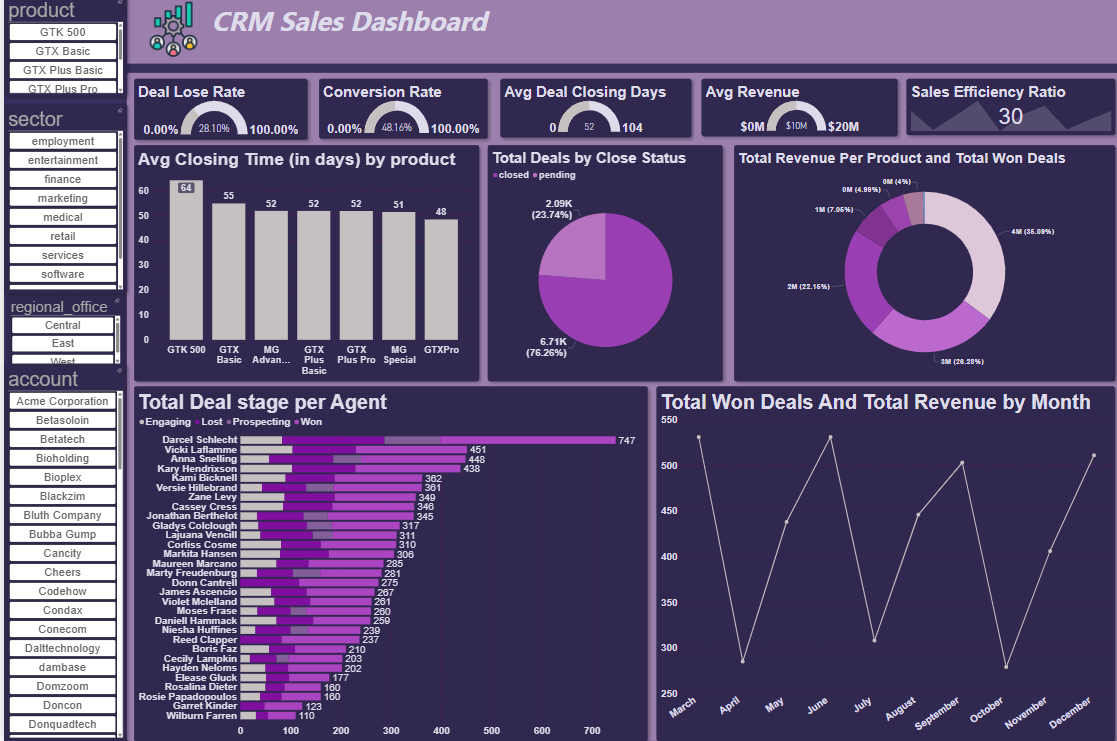

The dashboard page shown, as its layout file describes it:
{"tool":"powerbi","page":{"name":"Overview","canvas":[3000,2000],"ordinal":0},"visuals":[{"type":"shape","box":[328.4,207.8,2674.3,1792.9],"z":0},{"type":"textbox","box":[328.8,0,2672.3,184],"z":1000},{"type":"image","box":[232.2,0,446.4,184],"z":2000},{"type":"gauge","fields":{"Y":["accounts.Conversion Rate"]},"box":[844.5,224.5,452.4,160.9],"z":3000},{"type":"gauge","fields":{"Y":["accounts.Avg Closing Time"]},"box":[1330.4,224.5,512.7,157.5],"z":4000},{"type":"gauge","fields":{"Y":["accounts.Lead Drop-off Rate"]},"box":[348.5,224.5,465.8,164.2],"z":5000},{"type":"ChicletSlicer1448559807354","fields":{"Category":["sales_pipeline.product"]},"box":[0,0,330,272.5],"z":6000},{"type":"ChicletSlicer1448559807354","fields":{"Category":["sales_teams.regional_office"]},"box":[7.5,800,315,197.5],"z":7000},{"type":"ChicletSlicer1448559807354","fields":{"Category":["accounts.account"]},"box":[0,988.6,328.4,1012.1],"z":8000},{"type":"ChicletSlicer1448559807354","fields":{"Category":["accounts.sector"]},"box":[0,292.5,330,507.5],"z":9000},{"type":"gauge","fields":{"Y":["sales_pipeline.close_value"]},"box":[1870,224.5,526.1,154.2],"z":10000},{"type":"lineChart","title":"Total Won Deals And Total Revenue by Month","fields":{"Category":["sales_pipeline.close_date.Variation.Date Hierarchy.Month"],"Y":["sales_pipeline.opportunity_id"]},"box":[1749.3,1048.9,1229.9,951.7],"z":11000},{"type":"barChart","title":"Total Deal stage per Agent","fields":{"Category":["sales_teams.sales_agent"],"Y":["sales_pipeline.deal_stage"],"Series":["sales_pipeline.deal_stage"]},"box":[348.5,1048.9,1377.4,951.7],"z":12000},{"type":"donutChart","title":"Total Revenue Per Product and Total Won Deals","fields":{"Category":["sales_pipeline.product"],"Y":["sales_pipeline.close_value"]},"box":[1957.4,401.1,1022.5,633.4],"z":13000},{"type":"pieChart","title":"Total Deals by Close Status","fields":{"Category":["sales_pipeline.close_status"],"Y":["sales_pipeline.opportunity_id"]},"box":[1296.9,401.1,630.4,633.4],"z":14000},{"type":"lineStackedColumnComboChart","title":"Avg Closing Time (in days) by product","fields":{"Category":["sales_pipeline.product"],"Y":["accounts.Avg Closing Time"]},"box":[349.9,401.1,925.9,633.4],"z":15000},{"type":"kpi","title":"Sales Efficiency Ratio ","fields":{"Indicator":["accounts.Sales Efficiency Ratio"],"TrendLine":["sales_pipeline.close_date.Variation.Date Hierarchy.Month"]},"box":[2419.6,224.5,559.7,150.8],"z":16000}]}

Visuals, with their boxes in screenshot pixels (x1, y1, x2, y2), scaled from the page's 3000x2000 canvas onto the 1117x741 screenshot:
shape: <bbox>122, 77, 1116, 740</bbox>
textbox: <bbox>122, 0, 1116, 68</bbox>
image: <bbox>86, 0, 253, 68</bbox>
gauge - accounts.Conversion Rate: <bbox>314, 83, 483, 143</bbox>
gauge - accounts.Avg Closing Time: <bbox>495, 83, 686, 142</bbox>
gauge - accounts.Lead Drop-off Rate: <bbox>130, 83, 303, 144</bbox>
ChicletSlicer1448559807354 - sales_pipeline.product: <bbox>0, 0, 123, 101</bbox>
ChicletSlicer1448559807354 - sales_teams.regional_office: <bbox>3, 296, 120, 370</bbox>
ChicletSlicer1448559807354 - accounts.account: <bbox>0, 366, 122, 740</bbox>
ChicletSlicer1448559807354 - accounts.sector: <bbox>0, 108, 123, 296</bbox>
gauge - sales_pipeline.close_value: <bbox>696, 83, 892, 140</bbox>
"Total Won Deals And Total Revenue by Month" lineChart: <bbox>651, 389, 1109, 740</bbox>
"Total Deal stage per Agent" barChart: <bbox>130, 389, 643, 740</bbox>
"Total Revenue Per Product and Total Won Deals" donutChart: <bbox>729, 149, 1110, 383</bbox>
"Total Deals by Close Status" pieChart: <bbox>483, 149, 718, 383</bbox>
"Avg Closing Time (in days) by product" lineStackedColumnComboChart: <bbox>130, 149, 475, 383</bbox>
"Sales Efficiency Ratio " kpi: <bbox>901, 83, 1109, 139</bbox>
